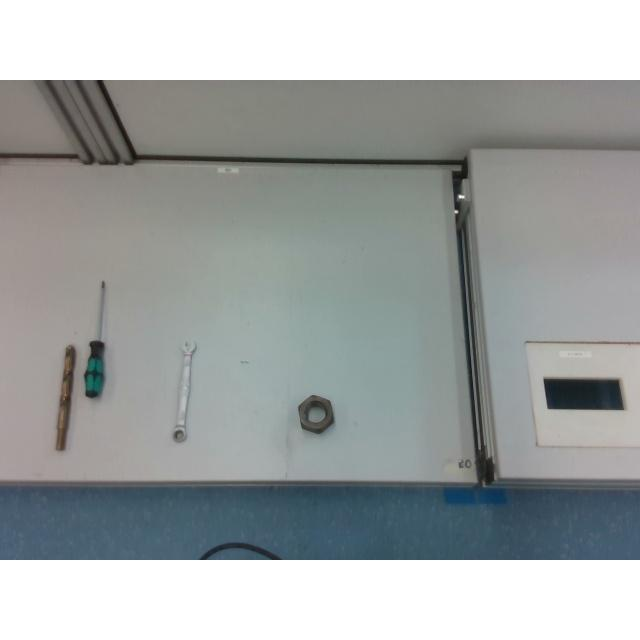Drill: (55, 346, 75, 450)
M30: (296, 394, 336, 434)
Screwdriver: (82, 280, 108, 396)
Wrench: (172, 342, 196, 442)
